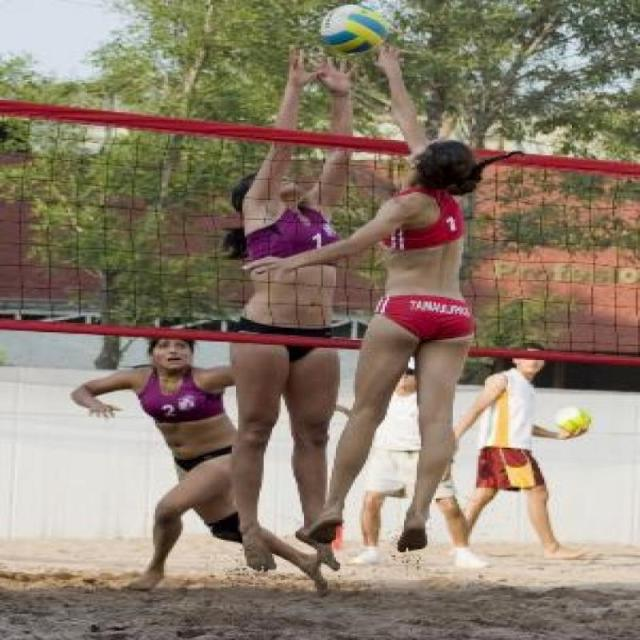volleyball: (319, 1, 389, 54), (551, 406, 589, 432)
